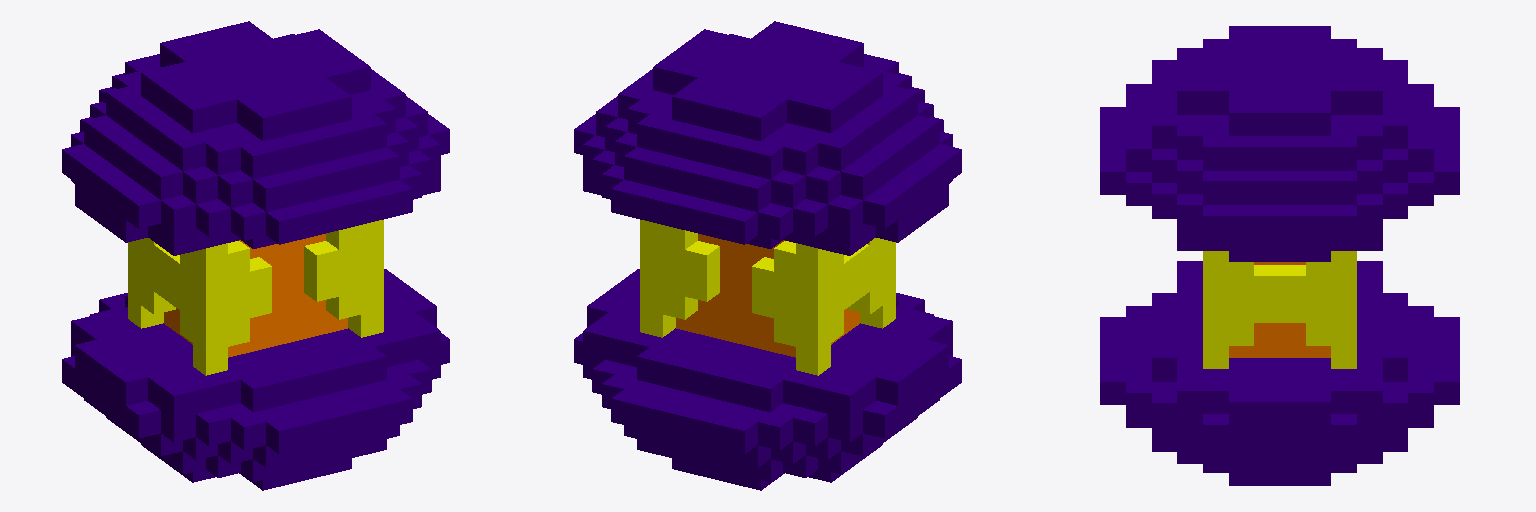
3 views of the same model, side by side, from view 1: azimuth 30°, elevation 25°; view 2: azimuth 150°, elevation 25°; view 3: azimuth 270°, elevation 25° (orthographic).
Parts seen in each view (by area): view 1: anubis_shot; view 2: anubis_shot; view 3: anubis_shot.
Boxes of the visible parts, box(x1,y1,x2,y2) form: anubis_shot: box(62, 21, 449, 490); anubis_shot: box(574, 21, 961, 490); anubis_shot: box(1100, 26, 1459, 485).
Size of the model in its own units: 1.4 by 1.6 by 1.4.
1 materials, 1 textured.